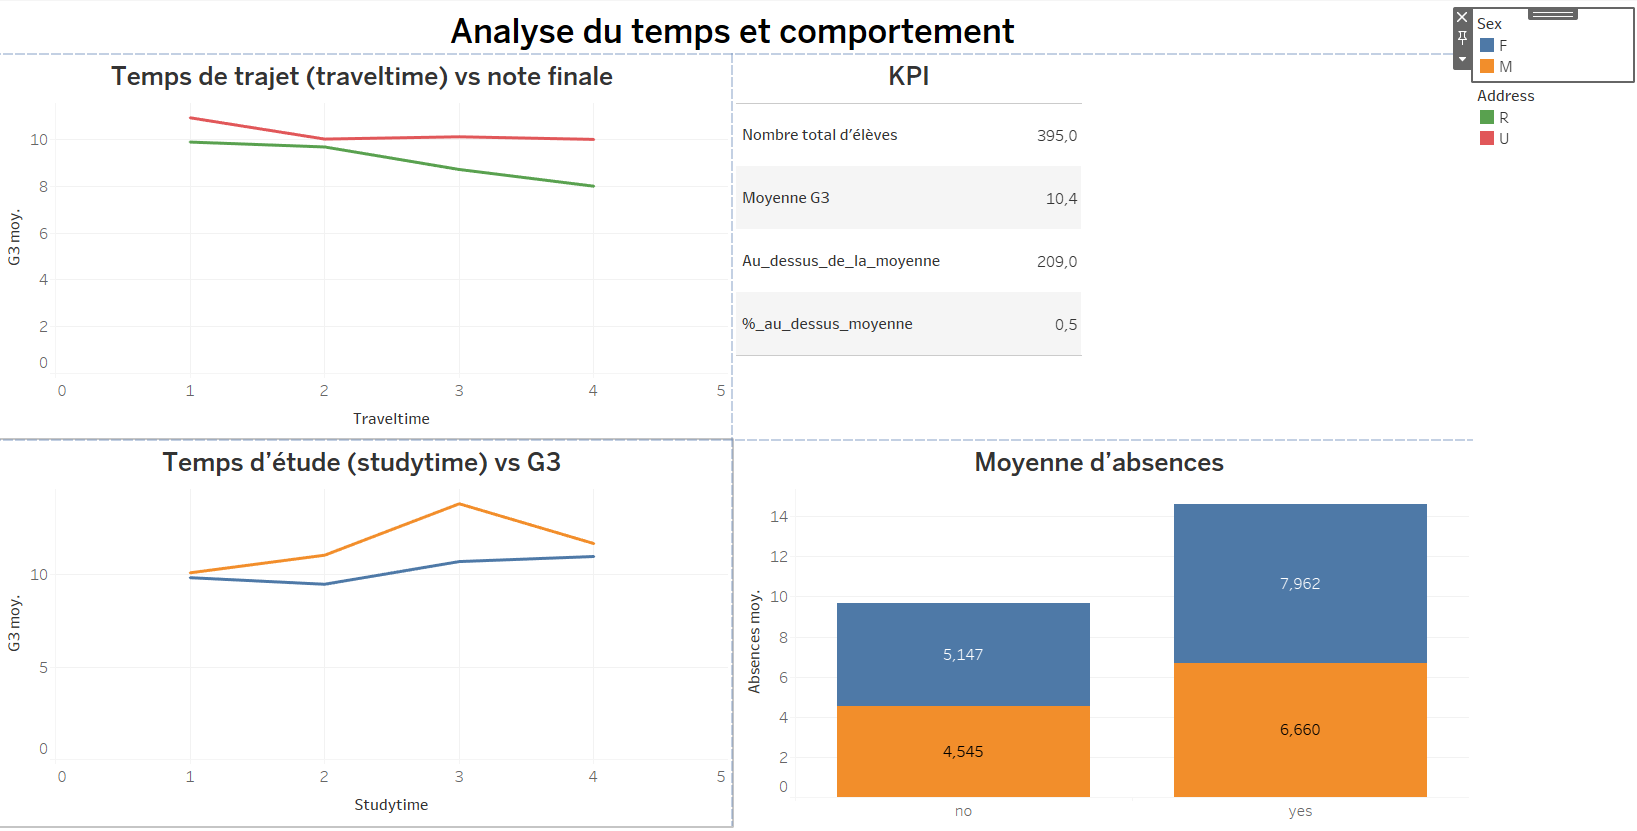

Layout of this report page (visuals, bound fields, positions):
{"tool":"tableau","page":{"name":"Analyse du temps et comportement","canvas":[1000,1000],"units":"permille","ordinal":0},"visuals":[{"type":"text","box":[4.8,9.6,893.8,54]},{"type":"legend","title":"Moyenne d’absences ","param":"[federated.1fipl6l15pd20x1gmdwpp1nmb3ds].[none:sex:nk]","box":[898.6,9.6,96.6,86.4]},{"type":"worksheet","title":"Temps de trajet (traveltime) vs note finale","mark":"Automatic","rows":["G3"],"cols":["traveltime"],"box":[4.8,63.6,446.9,463.4]},{"type":"worksheet","title":"KPI","mark":"Automatic","box":[451.7,63.6,446.9,463.4]},{"type":"legend","title":"Temps de trajet (traveltime) vs note finale","param":"[federated.1fipl6l15pd20x1gmdwpp1nmb3ds].[none:address:nk]","box":[898.6,96,96.6,86.4]},{"type":"worksheet","title":"Temps d’étude (studytime) vs G3","mark":"Automatic","rows":["G3"],"cols":["studytime"],"box":[4.8,527,446.9,463.4]},{"type":"worksheet","title":"Moyenne d’absences ","mark":"Automatic","rows":["absences"],"cols":["romantic"],"box":[451.7,527,446.9,463.4]}]}

Visuals, with their boxes on the dashboard's canvas, which has no fixed pixel size, in thousandths of its width and height (x1, y1, x2, y2). These are canvas units, not pixel positions in the 1637x831 screenshot, which may show the page scaled, cropped or inside an application window:
text: {"x1": 5, "y1": 10, "x2": 899, "y2": 64}
"Moyenne d’absences " legend: {"x1": 899, "y1": 10, "x2": 995, "y2": 96}
"Temps de trajet (traveltime) vs note finale" worksheet: {"x1": 5, "y1": 64, "x2": 452, "y2": 527}
"KPI" worksheet: {"x1": 452, "y1": 64, "x2": 899, "y2": 527}
"Temps de trajet (traveltime) vs note finale" legend: {"x1": 899, "y1": 96, "x2": 995, "y2": 182}
"Temps d’étude (studytime) vs G3" worksheet: {"x1": 5, "y1": 527, "x2": 452, "y2": 990}
"Moyenne d’absences " worksheet: {"x1": 452, "y1": 527, "x2": 899, "y2": 990}
